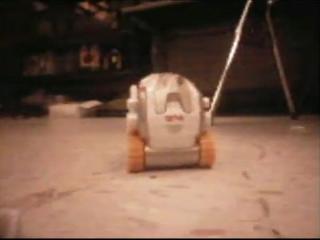cozmo: (124, 70, 216, 172)
